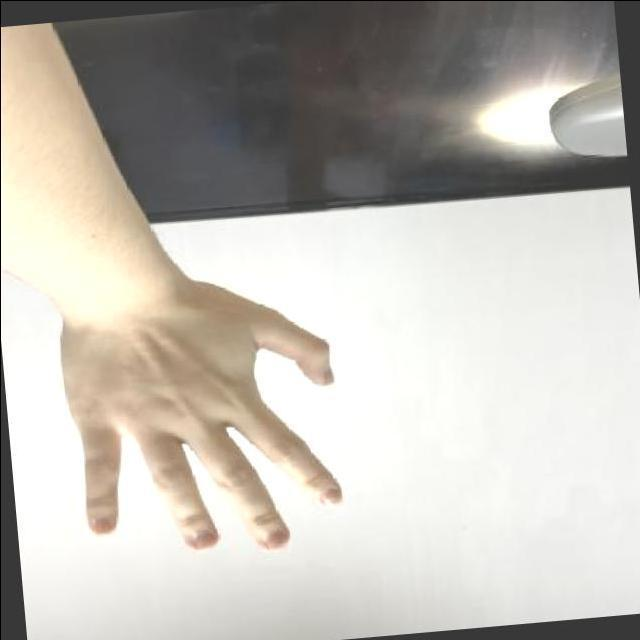hand: (27, 234, 368, 588)
